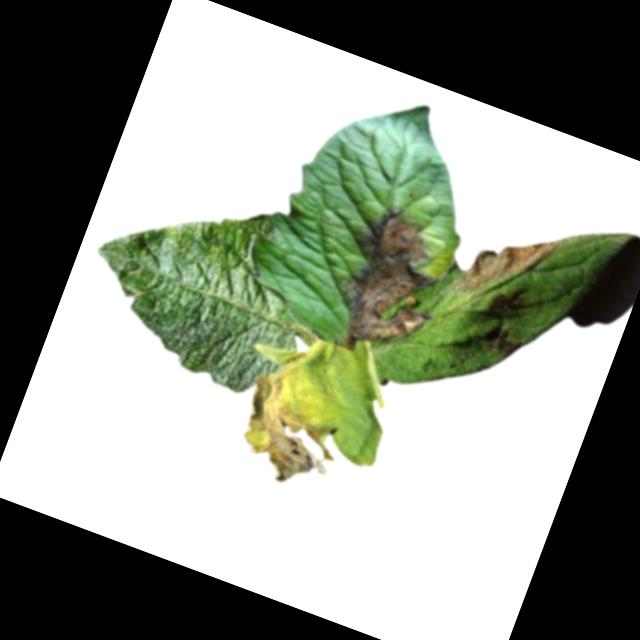Late_blight: (318, 199, 461, 374), (225, 339, 366, 497), (448, 207, 562, 322), (488, 324, 525, 361)
